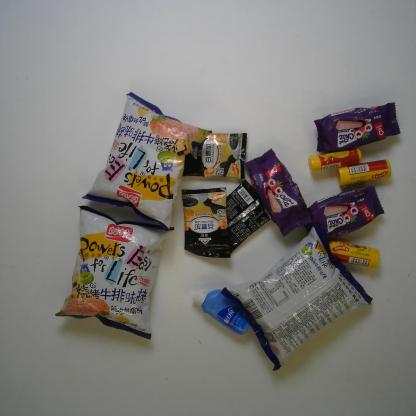Candy: (326, 240, 382, 270), (336, 158, 392, 188), (308, 148, 364, 174)
Dessert: (242, 146, 311, 236), (303, 186, 386, 242), (312, 101, 400, 153)
Instant Drink: (182, 186, 232, 258), (226, 180, 270, 254), (182, 132, 249, 180)
Personal Hygiene: (192, 288, 250, 336)
Puffed Food: (223, 222, 373, 372), (81, 91, 214, 232), (55, 204, 176, 341)
